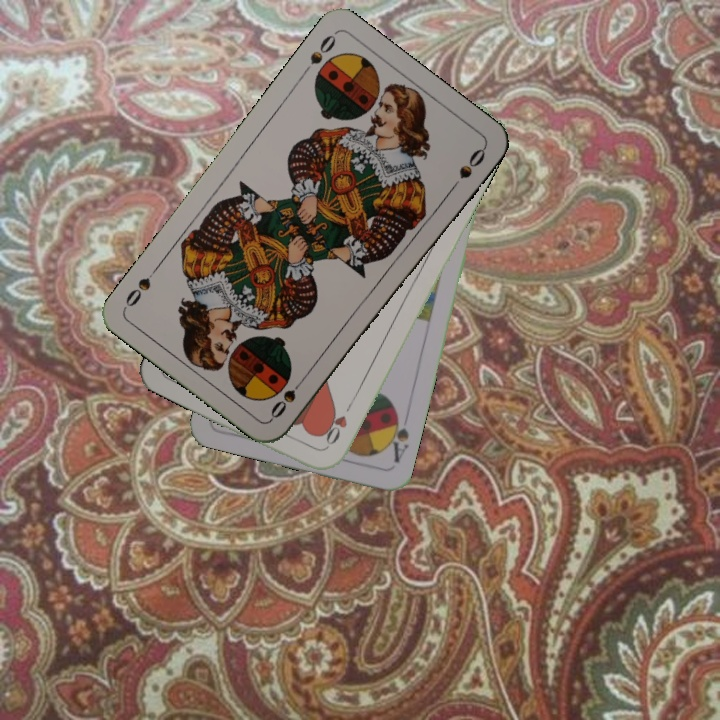HO: (321, 397, 355, 451)
SA: (382, 407, 412, 466)
SO: (266, 372, 309, 422), (297, 31, 339, 80)
